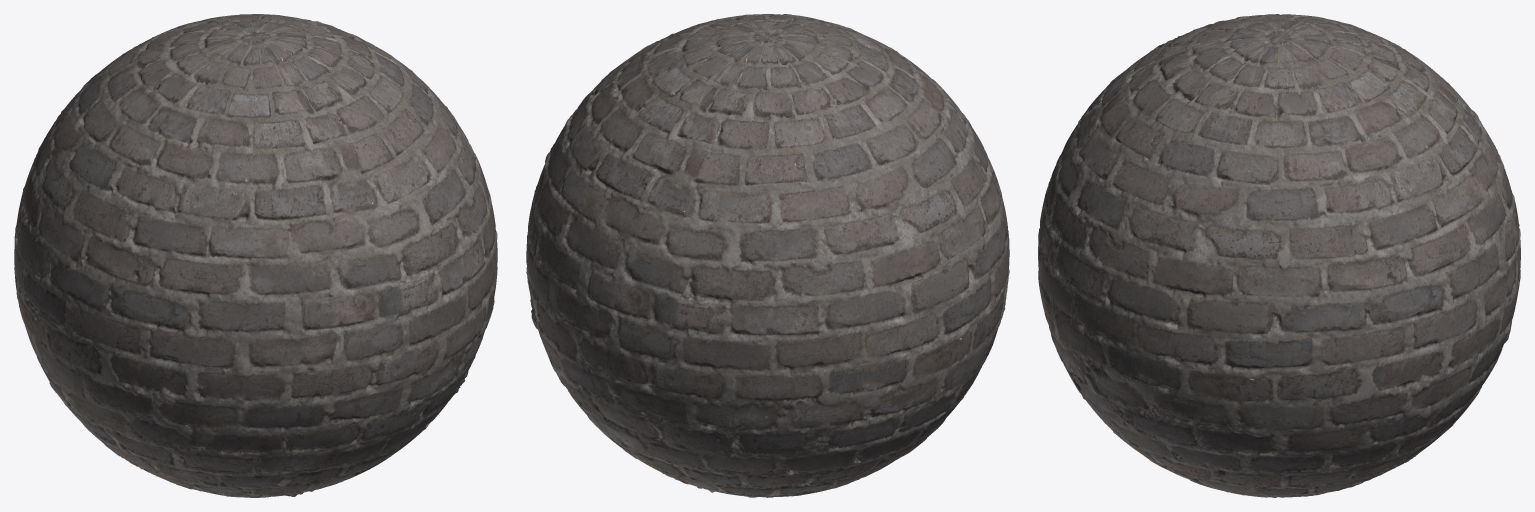
File: brick_wall_08_1k.gltf
3 renders of one model, left to right at view 1: azimuth 30°, elevation 25°; view 2: azimuth 150°, elevation 25°; view 3: azimuth 270°, elevation 25°, orthographic.
Parts seen in each view (by area): view 1: sphere_gltf; view 2: sphere_gltf; view 3: sphere_gltf.
Boxes of the visible parts, x1,y1,x2,y2 form: sphere_gltf: (14, 14, 497, 497); sphere_gltf: (526, 14, 1009, 497); sphere_gltf: (1038, 14, 1520, 497).
Size of the model in its own units: 1.93 by 1.94 by 1.93.
1 material, 1 textured.
